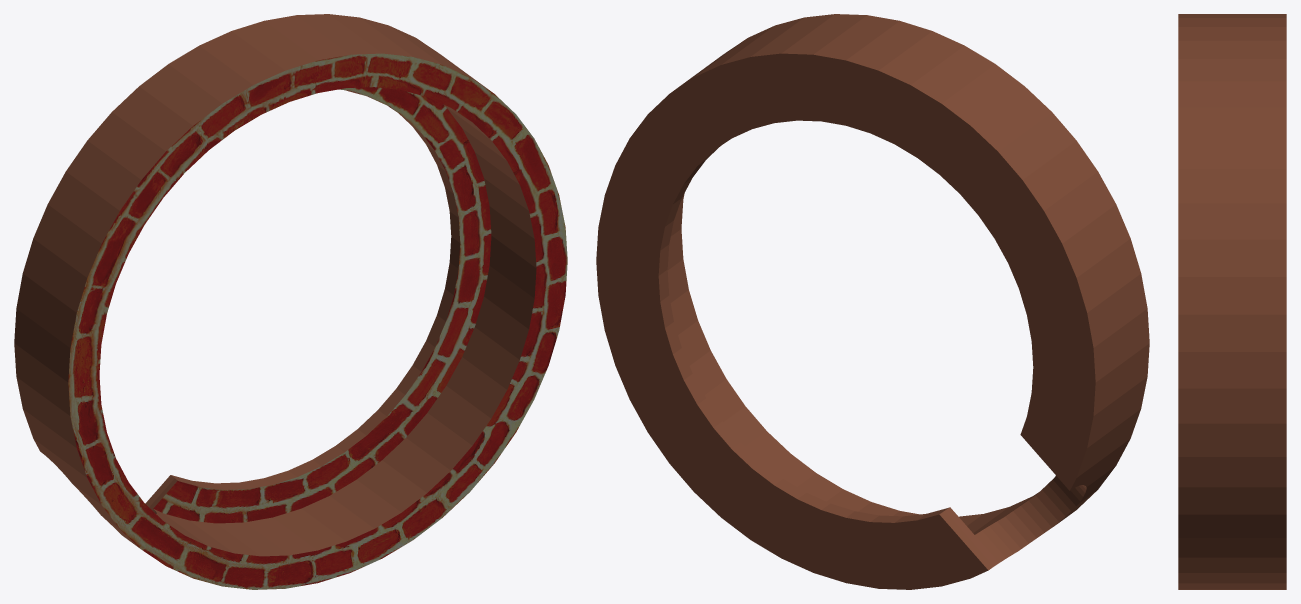
The model's file is pool_007.obj.
3 views of the same model, side by side, from view 1: azimuth 30°, elevation 25°; view 2: azimuth 150°, elevation 25°; view 3: azimuth 270°, elevation 25° (orthographic).
Bounding box in the file's own units: 16 × 16 × 3.
1 material, 1 textured.
